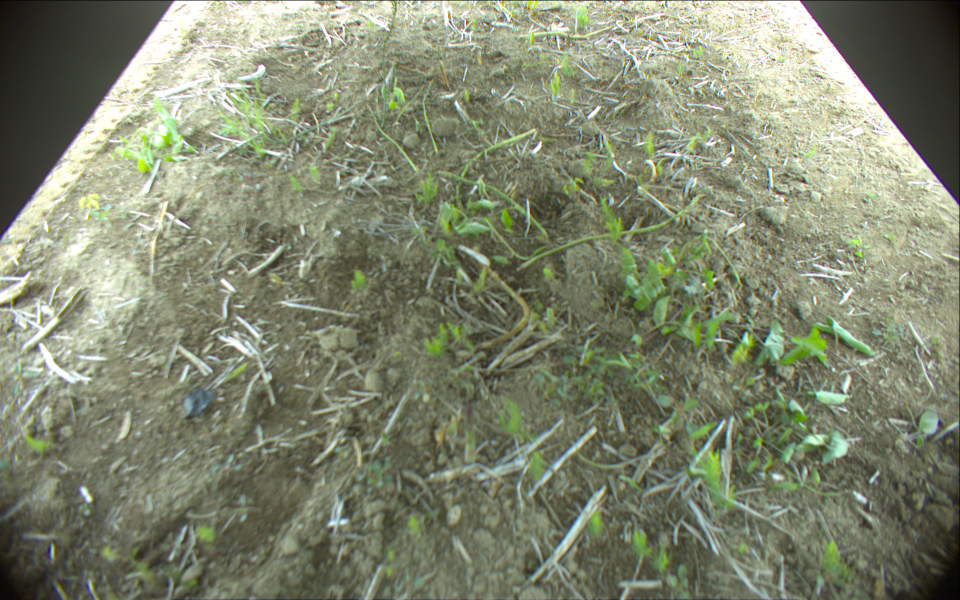aspa: (521, 193, 702, 272), (442, 172, 550, 239), (456, 126, 540, 208), (520, 14, 661, 42), (367, 104, 418, 171), (423, 78, 439, 155), (382, 1, 398, 57)
